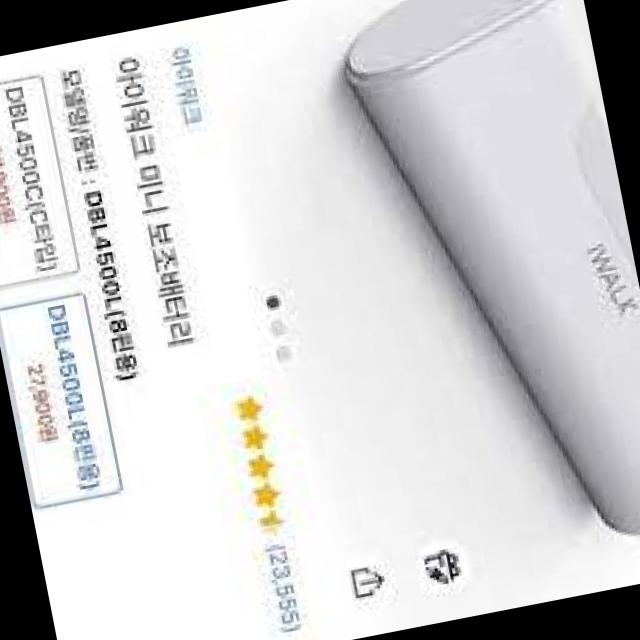power_bank: (324, 0, 640, 581)
